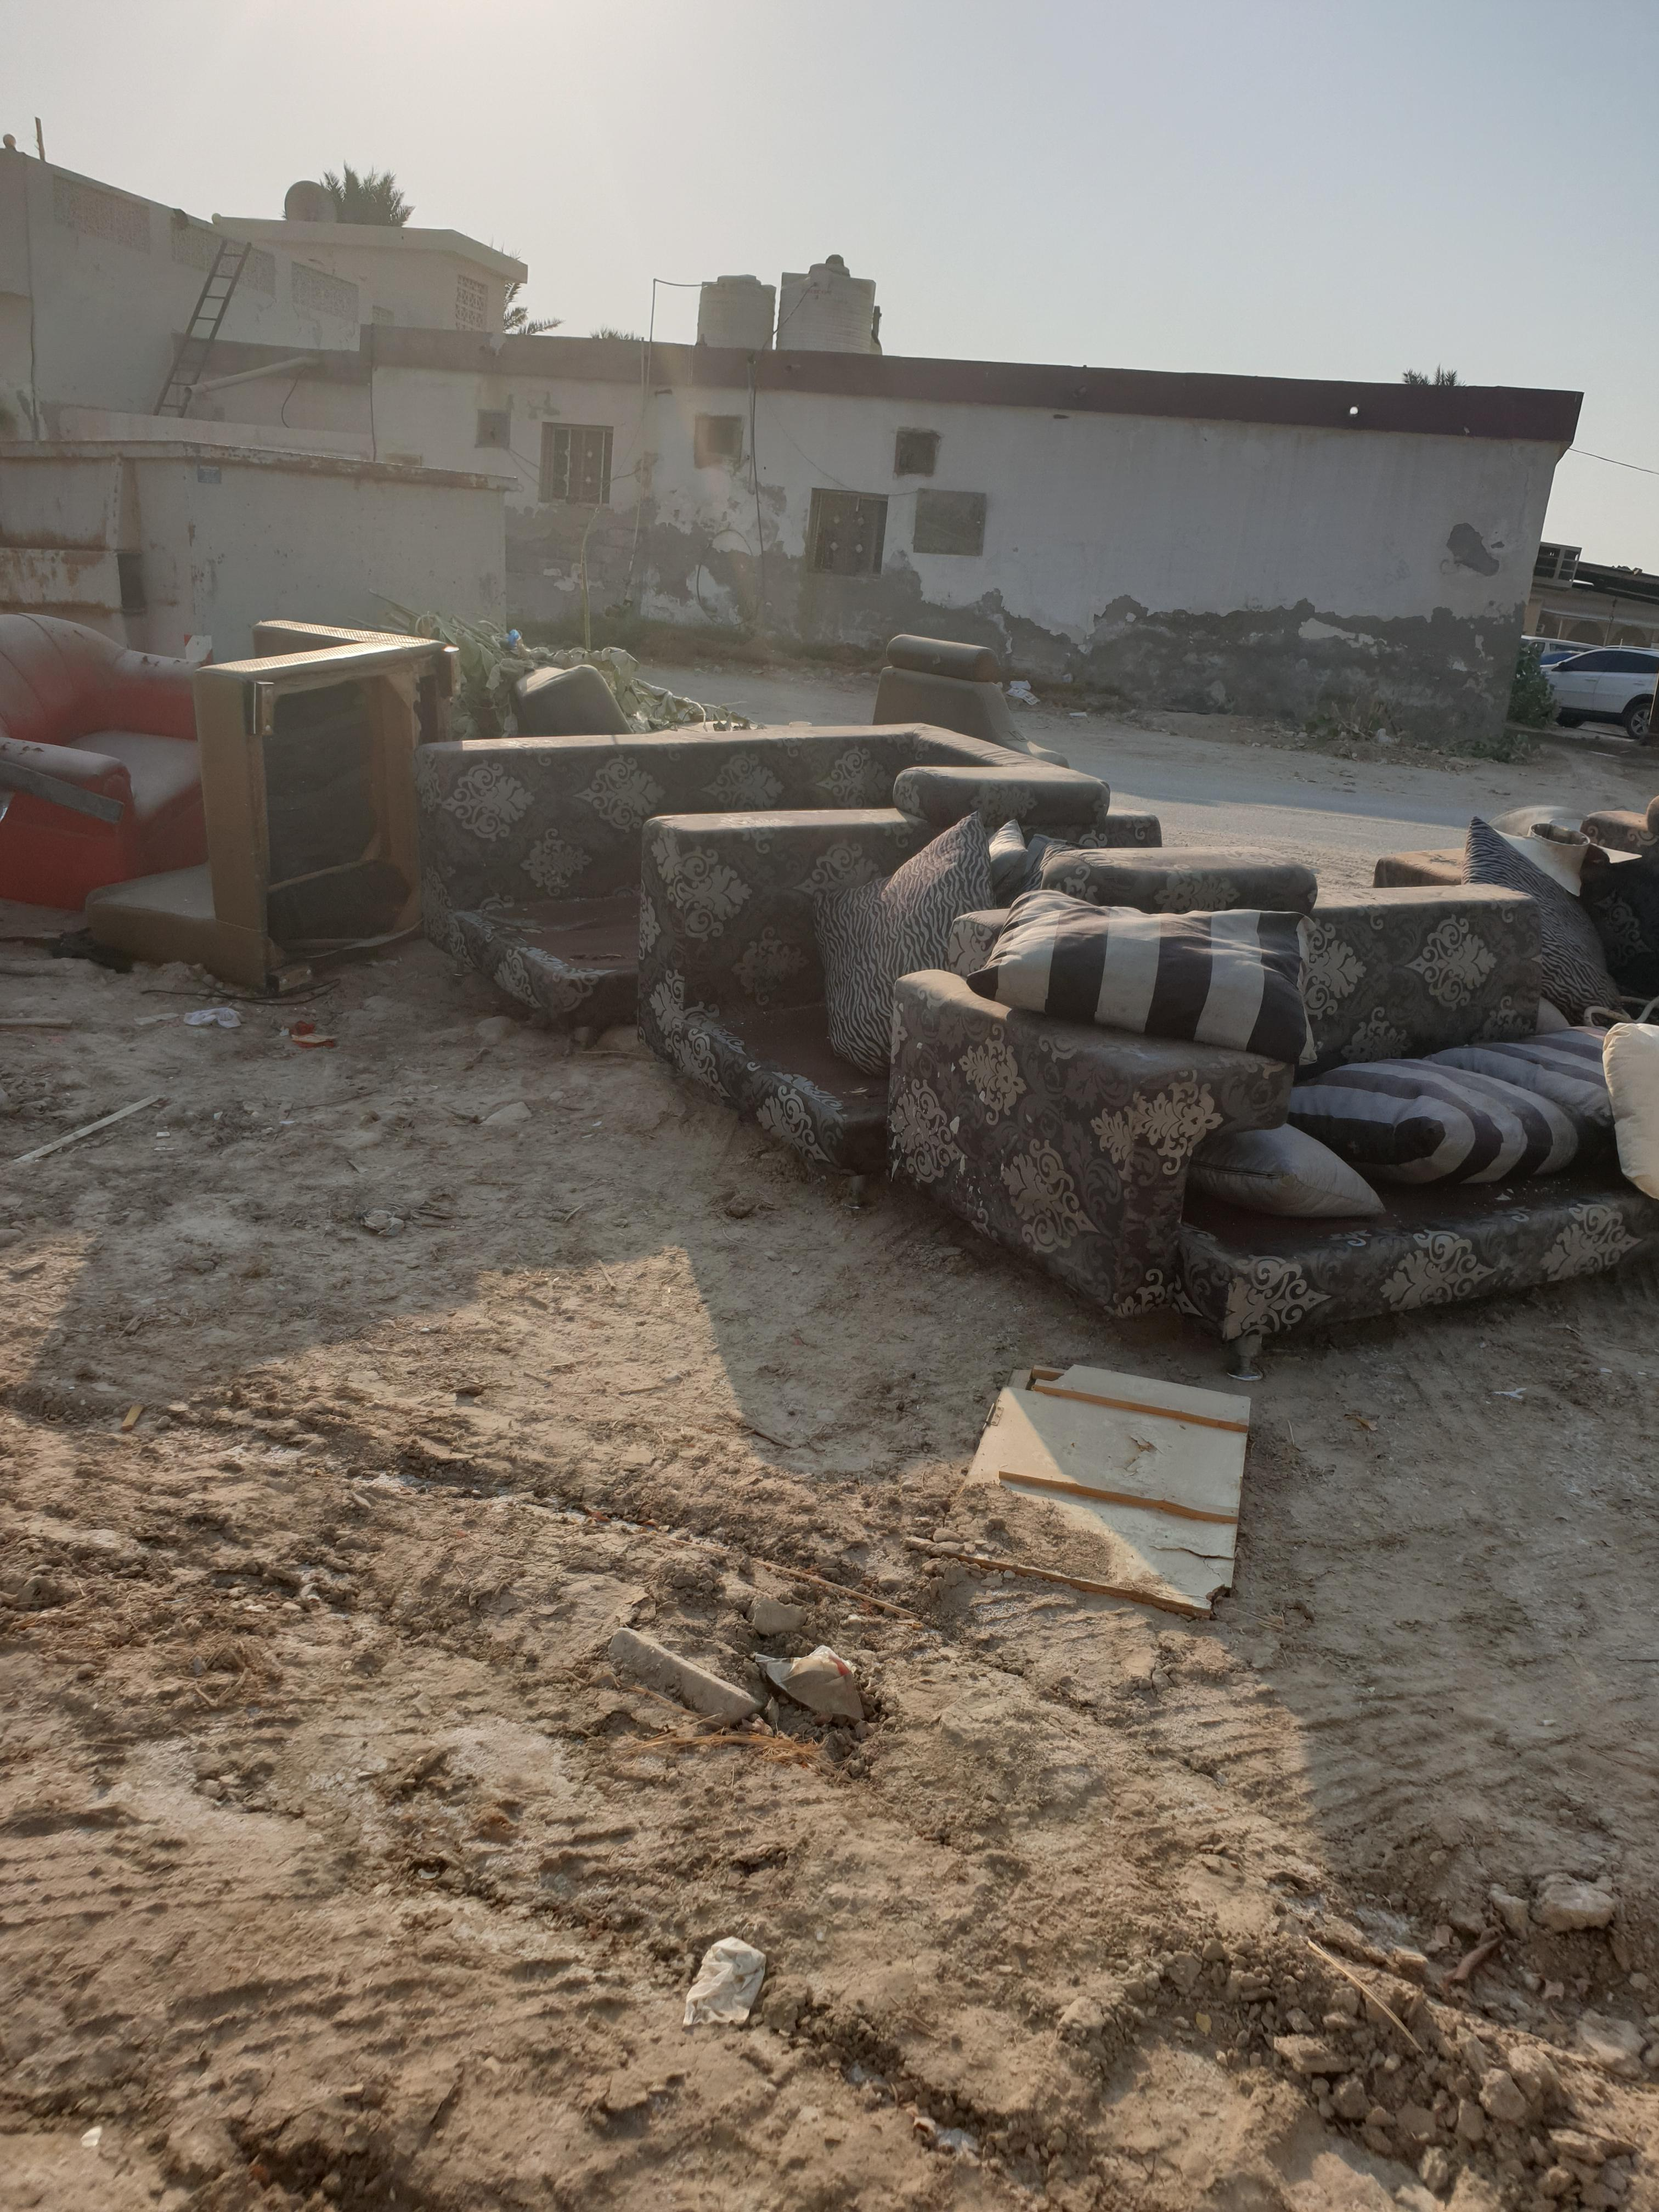uncollected_waste: (134, 632, 1629, 1432), (488, 742, 1659, 1420), (788, 834, 1584, 1383)
